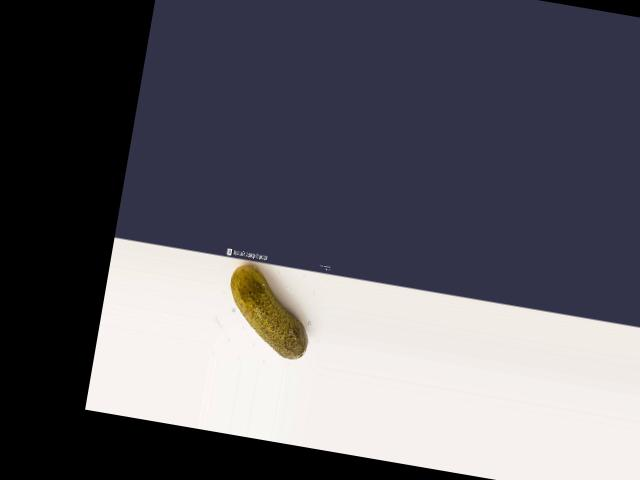cucumber: (219, 262, 319, 360)
